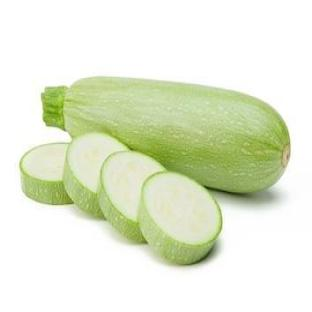Zucchini: (43, 77, 289, 191), (139, 172, 222, 263), (98, 152, 164, 242), (63, 134, 127, 218), (20, 143, 72, 205)
